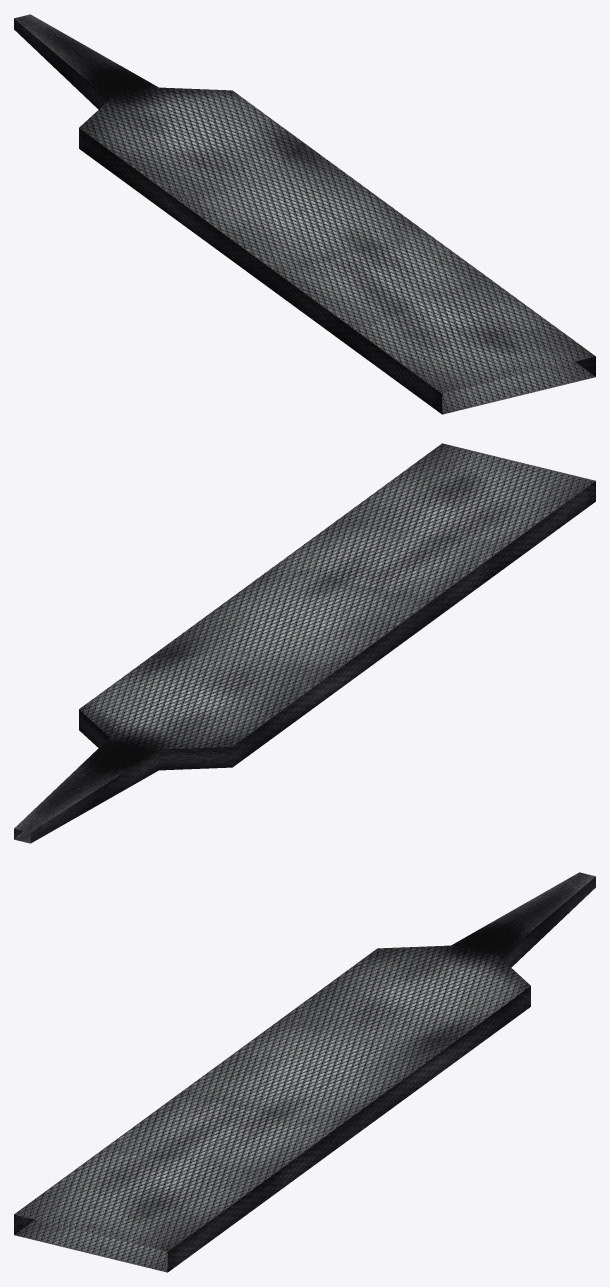
Rendered from viila.obj.
3 views of the same model, one above another, from view 1: azimuth 30°, elevation 25°; view 2: azimuth 150°, elevation 25°; view 3: azimuth 330°, elevation 25° (orthographic).
Visible parts, largest first — view 1: Cube; view 2: Cube; view 3: Cube.
Part boxes in pixels (bbox=[...]): Cube: bbox=[14, 14, 595, 414]; Cube: bbox=[14, 443, 595, 843]; Cube: bbox=[14, 872, 595, 1272].
Size of the model in its own units: 2 by 0.2578 by 11.2.
2 materials, 2 textured.
